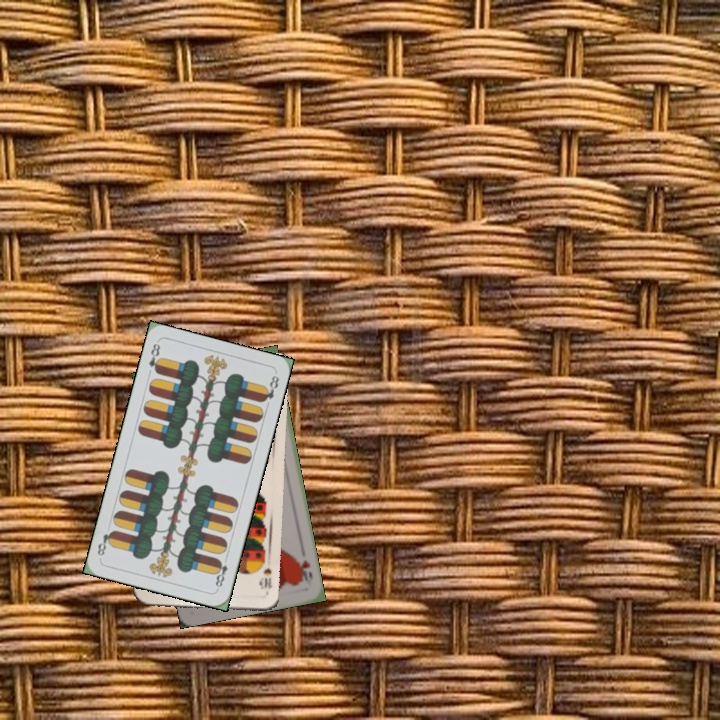E8: (211, 556, 231, 592), (145, 339, 164, 376)
HO: (294, 556, 315, 584)
S10: (256, 555, 275, 596)
